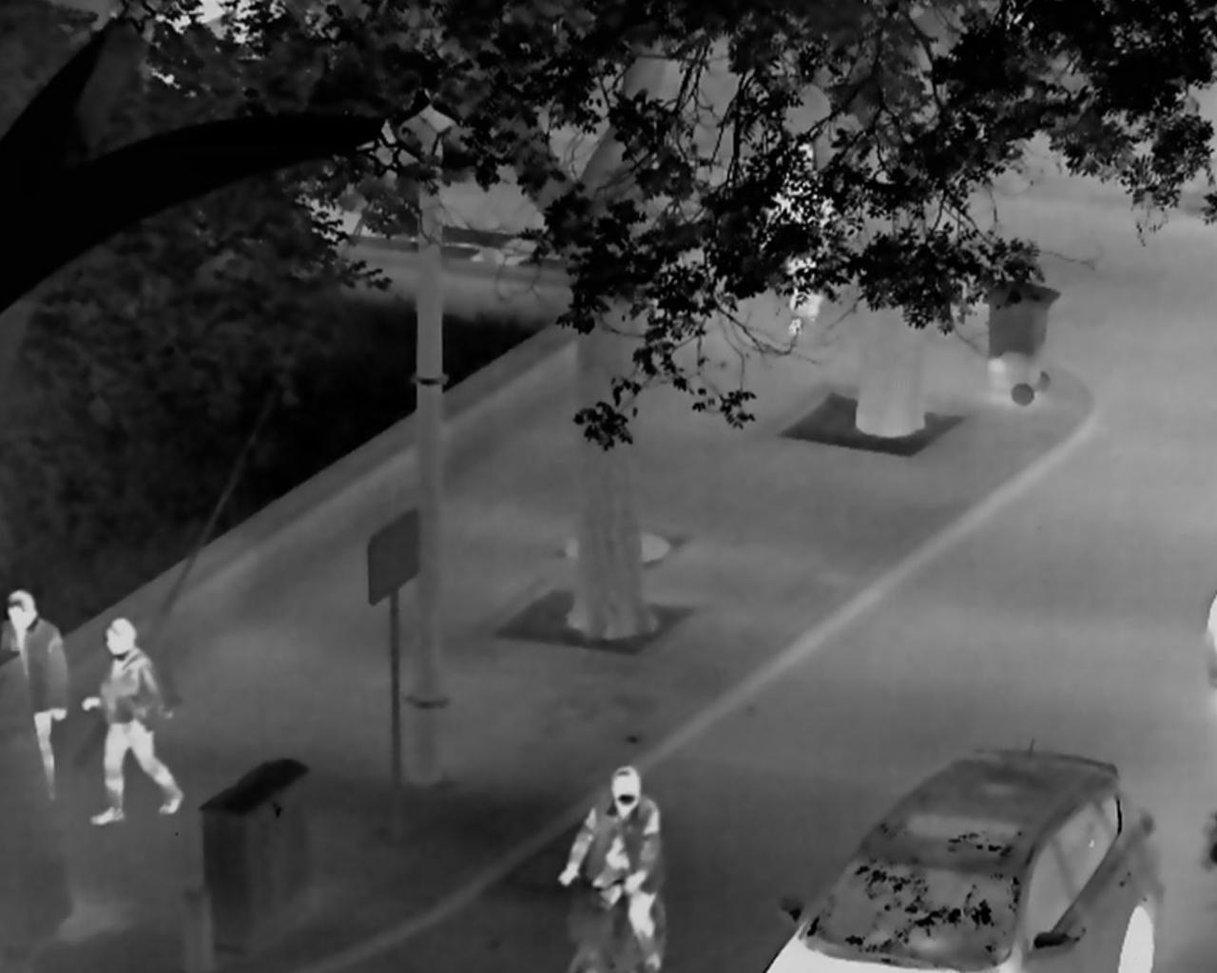person: (557, 763, 666, 973), (80, 615, 187, 826), (763, 141, 830, 328)
